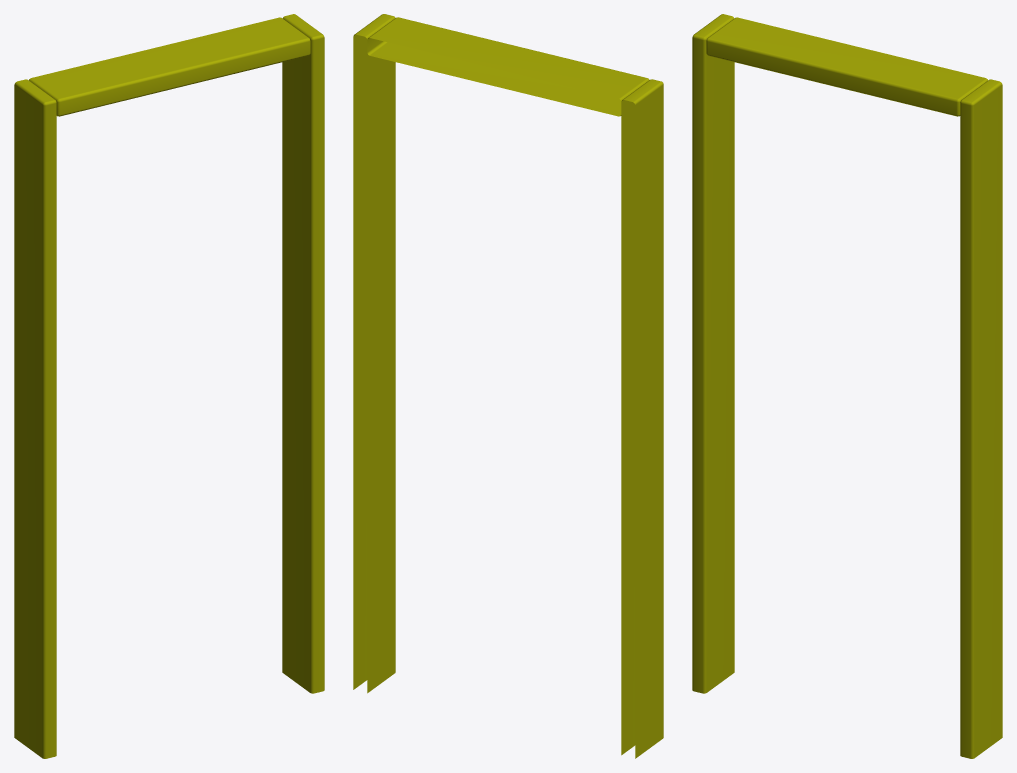
Rendered from SM_door_narrow_frame.fbx.
3 views of the same model, side by side, from view 1: azimuth 30°, elevation 25°; view 2: azimuth 150°, elevation 25°; view 3: azimuth 330°, elevation 25° (orthographic).
Parts seen in each view (by area): view 1: SM_door_narrow_frame; view 2: SM_door_narrow_frame; view 3: SM_door_narrow_frame.
Boxes of the visible parts, <box> form: SM_door_narrow_frame: <box>14,14,324,758</box>; SM_door_narrow_frame: <box>353,14,663,758</box>; SM_door_narrow_frame: <box>692,14,1002,758</box>.
Size of the model in its own units: 0.9671 by 2.15 by 0.1753.
